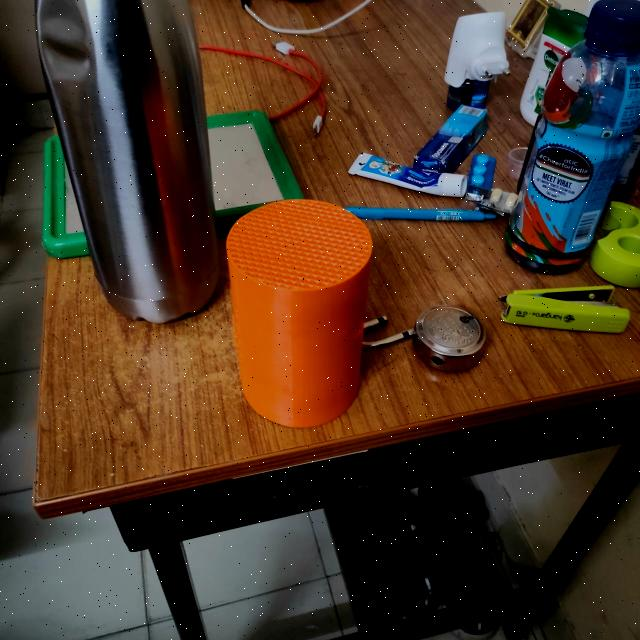Cylinder: (503, 0, 639, 274), (224, 198, 374, 428)
